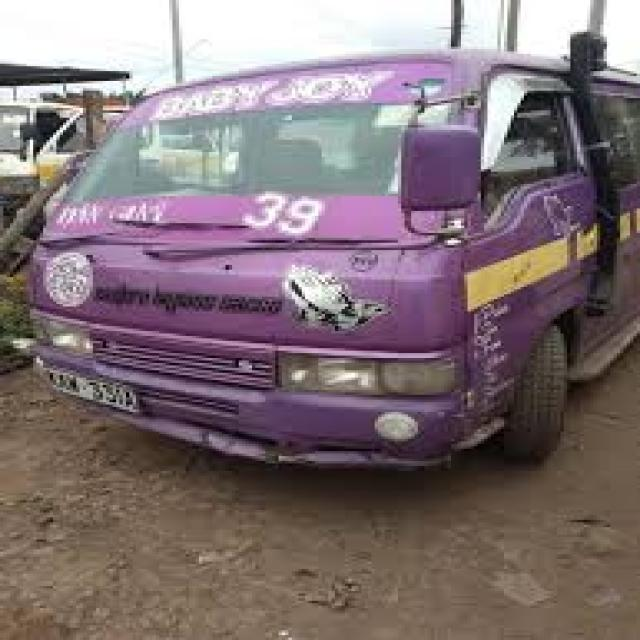matatu: (0, 5, 640, 513)
